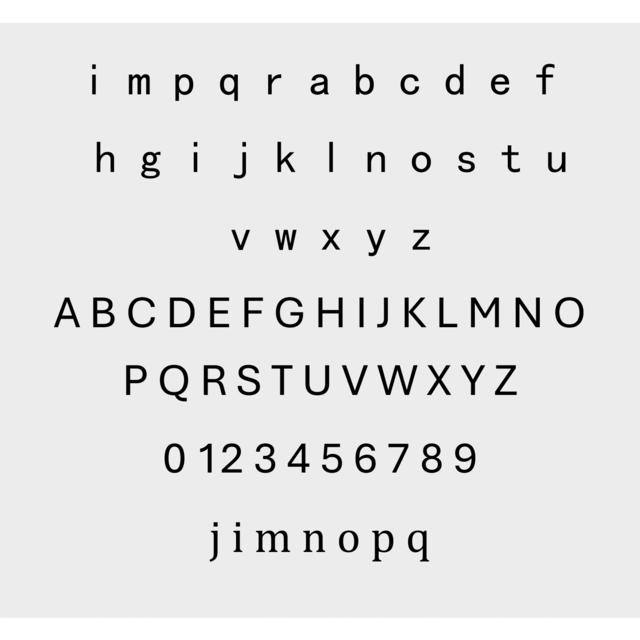alphabet: (376, 364, 416, 398), (160, 364, 190, 405), (470, 297, 501, 331), (554, 296, 584, 330), (274, 296, 303, 330), (128, 296, 156, 331), (168, 296, 195, 331), (341, 365, 369, 398), (514, 296, 540, 330), (304, 365, 331, 397), (256, 528, 292, 552), (54, 297, 80, 330), (236, 364, 261, 398), (458, 363, 484, 395), (372, 528, 395, 563), (92, 297, 116, 330), (318, 297, 342, 330), (426, 364, 450, 397), (124, 365, 148, 397), (404, 297, 427, 330), (271, 363, 294, 395), (420, 442, 442, 475), (204, 365, 226, 397), (164, 442, 186, 474), (454, 442, 476, 474), (354, 442, 376, 474), (320, 442, 342, 474), (494, 363, 516, 395), (386, 443, 408, 475), (209, 297, 230, 330), (254, 442, 275, 475), (354, 62, 374, 96), (408, 528, 428, 562), (439, 297, 460, 329), (220, 443, 241, 475), (446, 62, 465, 96), (243, 297, 263, 329), (140, 152, 162, 181), (97, 140, 116, 173), (277, 140, 296, 173), (536, 62, 554, 96), (286, 443, 307, 472), (218, 72, 238, 102), (174, 73, 193, 102), (302, 529, 325, 552), (339, 528, 360, 552), (128, 73, 150, 95), (275, 230, 297, 252), (231, 229, 252, 252), (490, 74, 510, 98), (310, 74, 330, 98), (401, 73, 421, 96), (456, 150, 476, 173), (376, 298, 390, 330), (320, 229, 340, 251), (412, 150, 432, 172), (548, 150, 567, 173), (208, 523, 218, 565), (366, 150, 384, 173), (200, 444, 213, 473), (268, 73, 283, 95)
